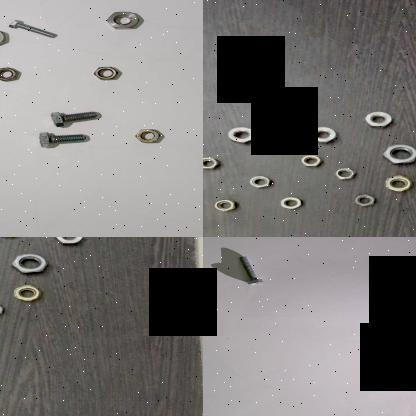Bolts: (43, 107, 108, 128), (33, 129, 93, 150), (9, 18, 61, 42), (238, 252, 266, 286)
NUTS: (106, 5, 146, 35), (10, 250, 53, 274), (90, 60, 129, 86), (379, 142, 416, 165), (8, 282, 46, 302), (226, 124, 261, 143), (132, 126, 166, 144), (363, 109, 393, 129), (381, 174, 416, 191), (304, 126, 340, 142), (264, 100, 294, 118), (277, 194, 308, 209), (0, 63, 22, 82), (352, 192, 378, 208), (250, 174, 272, 190), (50, 237, 90, 245), (214, 198, 234, 210), (203, 154, 219, 169), (0, 25, 10, 47), (0, 302, 10, 315)
